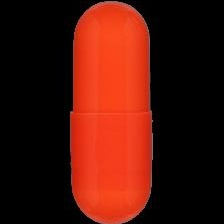64725-4111: (0, 0, 224, 224)
